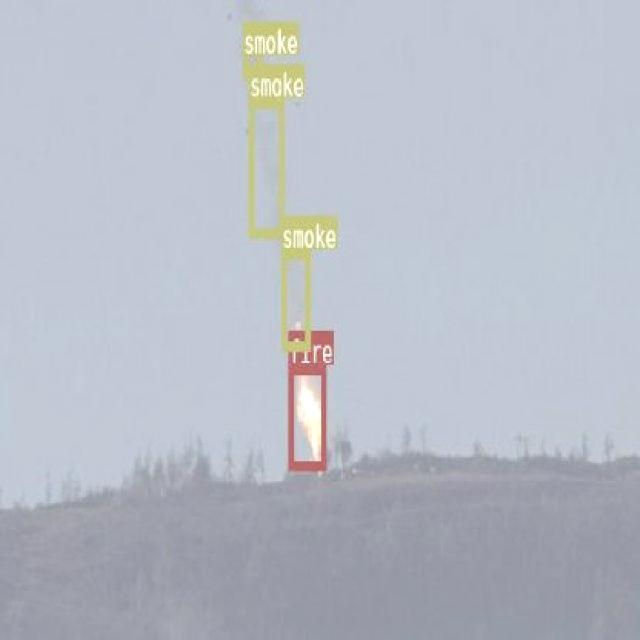fire: (288, 364, 326, 468)
smoke: (248, 96, 282, 236), (281, 248, 310, 348), (242, 21, 262, 78)
